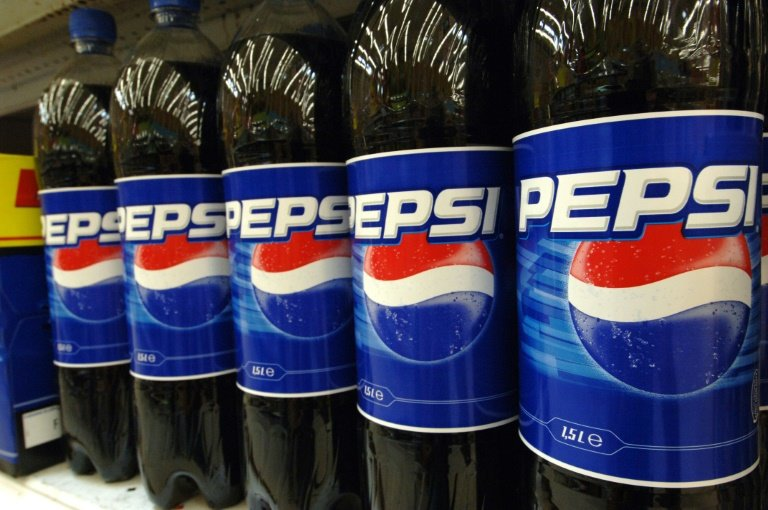pepsi: (568, 219, 751, 394), (363, 229, 494, 363), (251, 220, 354, 334), (132, 218, 221, 327), (137, 218, 221, 327), (47, 222, 125, 321)
